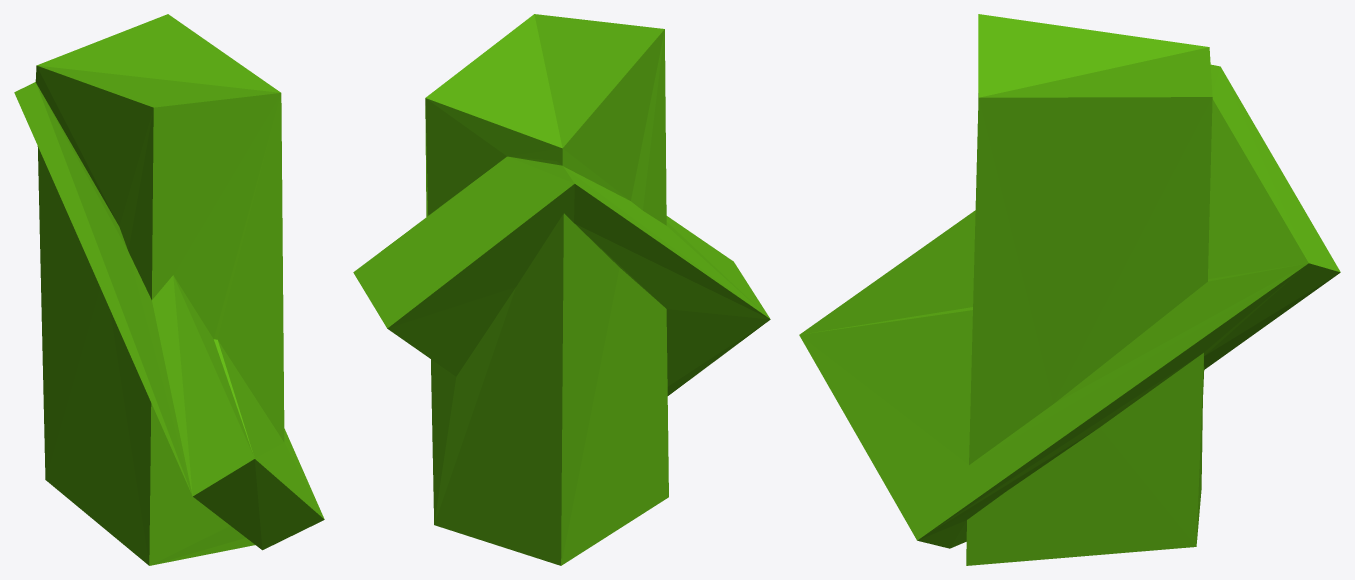
3 views of the same model, side by side, from view 1: azimuth 30°, elevation 25°; view 2: azimuth 150°, elevation 25°; view 3: azimuth 270°, elevation 25° (orthographic). The views are drawn at different scales.
Visible parts, largest first — view 1: 598_Cube.2406; view 2: 598_Cube.2406; view 3: 598_Cube.2406.
Boxes of the visible parts, left/top/right/bottom form: 598_Cube.2406: left=14, top=14, right=324, bottom=565; 598_Cube.2406: left=353, top=14, right=770, bottom=565; 598_Cube.2406: left=799, top=14, right=1340, bottom=565.
Size of the model in its own units: 5.37 by 12.89 by 12.99.
